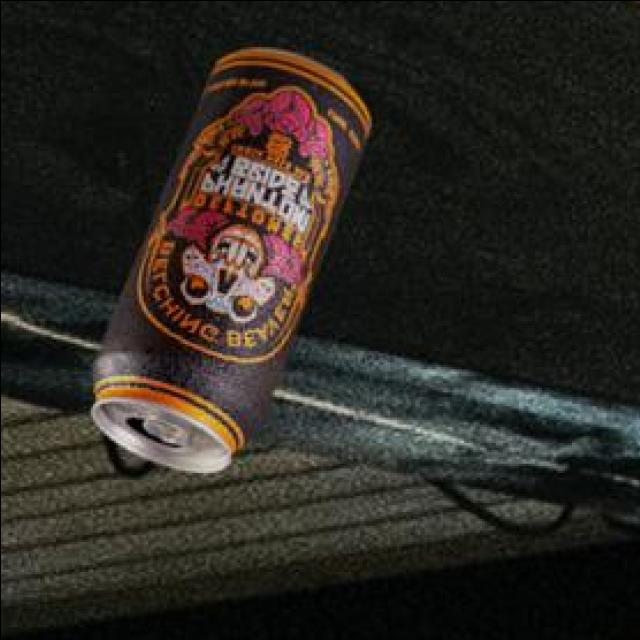logam: (96, 45, 372, 468)
